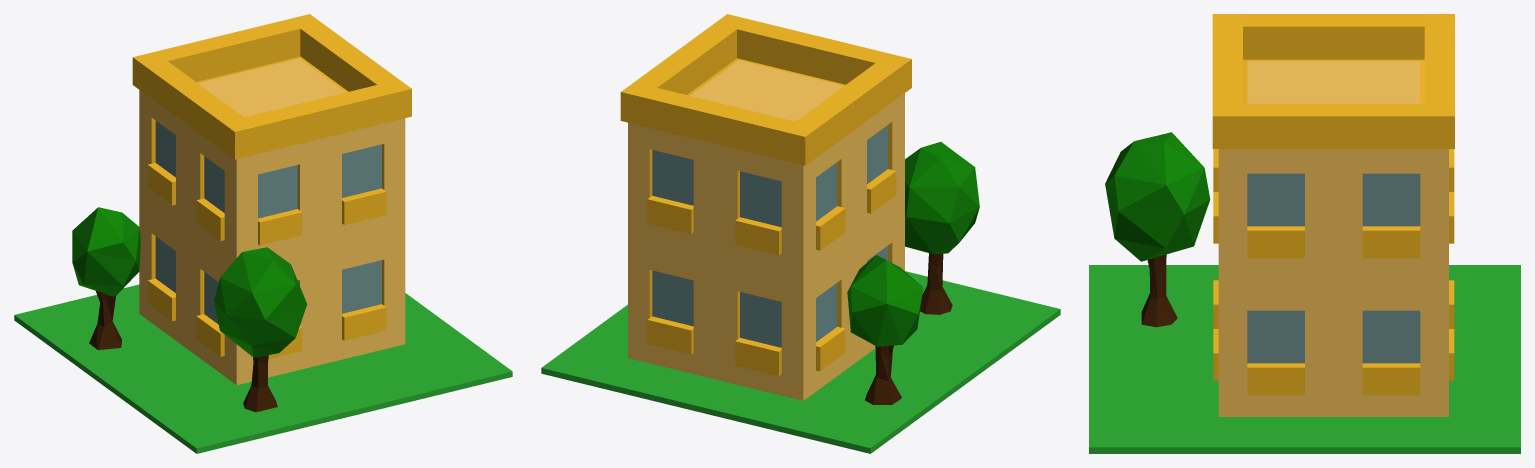
Rendered from building.FBX.
3 views of the same model, side by side, from view 1: azimuth 30°, elevation 25°; view 2: azimuth 150°, elevation 25°; view 3: azimuth 270°, elevation 25° (orthographic). The views are drawn at different scales.
Parts seen in each view (by area): view 1: Building, Soil, Leaf2, Leaf1, Tree1, Tree2; view 2: Building, Soil, Leaf2, Leaf1, Tree1, Tree2; view 3: Building, Soil, Leaf2, Tree2.
Boxes of the visible parts, x1,y1,x2,y2 form: Building: (132,14,411,384); Soil: (14,284,512,453); Leaf2: (214,247,307,357); Leaf1: (72,207,140,296); Tree1: (89,290,121,349); Tree2: (243,355,277,412); Building: (620,14,911,400); Soil: (541,271,1060,453); Leaf2: (905,142,979,254); Leaf1: (847,255,923,346); Tree1: (865,345,901,404); Tree2: (920,253,952,314); Building: (1212,14,1454,416); Soil: (1089,265,1520,453); Leaf2: (1105,132,1210,261); Tree2: (1141,254,1177,327).
Bounding box in the file's own units: 236 × 187 × 236.
